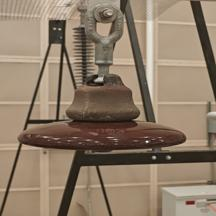insulator: (11, 66, 189, 162)
